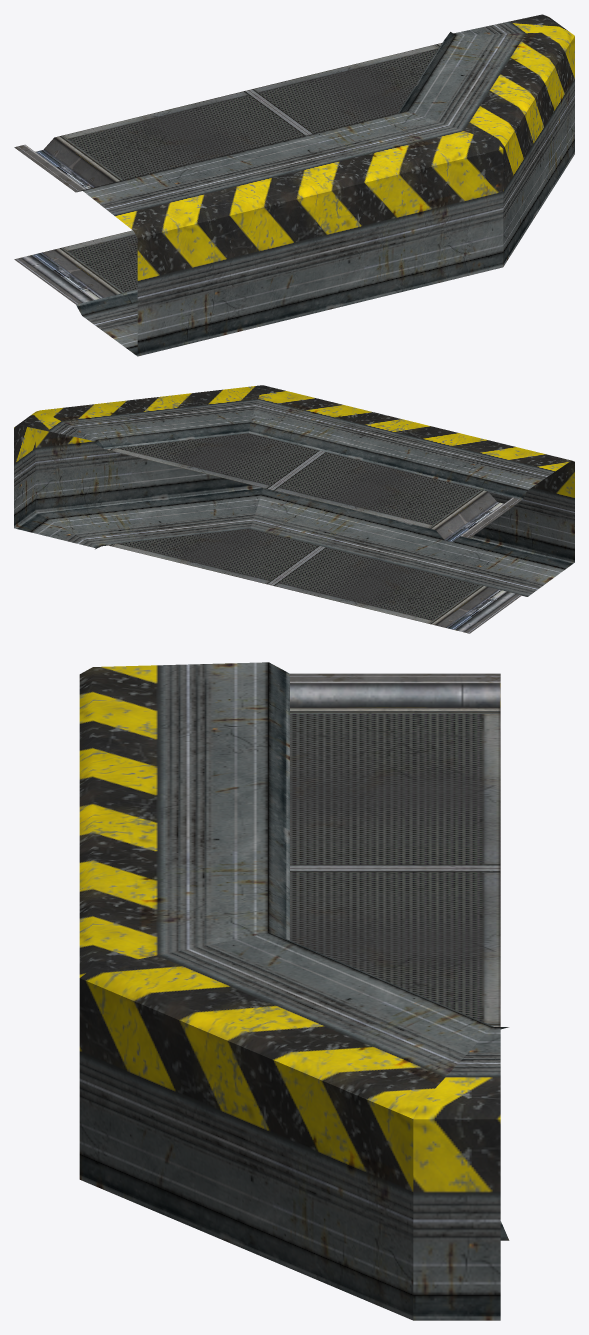
Rendered from FLO_PLatformSolidEdgeRight_1x2'5.FBX.
3 views of the same model, one above another, from view 1: azimuth 30°, elevation 25°; view 2: azimuth 150°, elevation 25°; view 3: azimuth 270°, elevation 25° (orthographic). The views are drawn at different scales.
Visible parts, largest first — view 1: FLO_PLatformSolidEdgeRight_1x2'5; view 2: FLO_PLatformSolidEdgeRight_1x2'5; view 3: FLO_PLatformSolidEdgeRight_1x2'5.
Boxes of the visible parts, <box> form: FLO_PLatformSolidEdgeRight_1x2'5: <box>14,14,574,356</box>; FLO_PLatformSolidEdgeRight_1x2'5: <box>14,385,574,633</box>; FLO_PLatformSolidEdgeRight_1x2'5: <box>79,662,509,1320</box>.
Bounding box in the file's own units: 250 × 55.97 × 102.
Materials: 1 (1 with a texture image).
